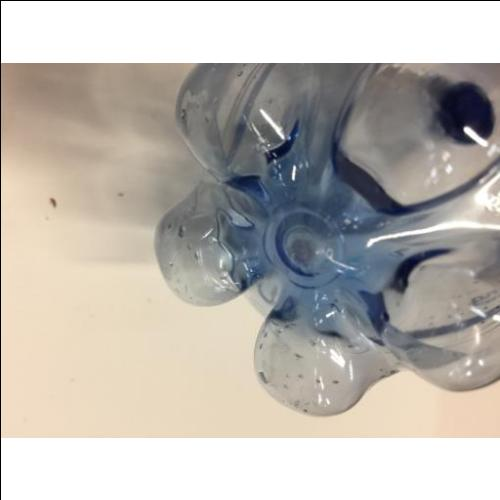plastic: (155, 64, 499, 419)
